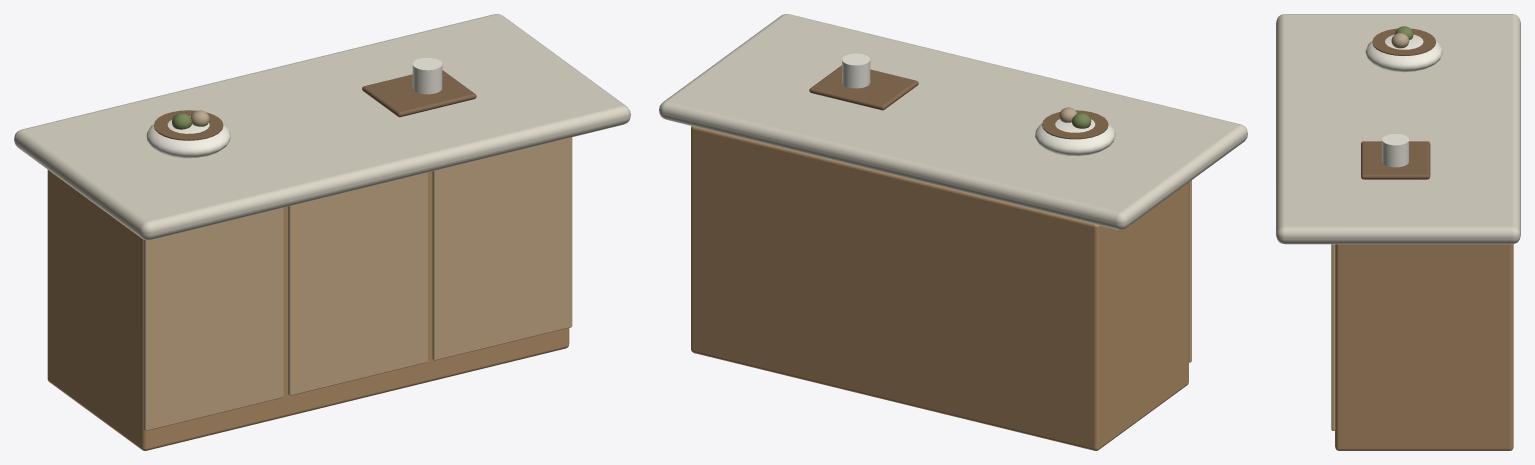
The model's file is island.glb.
3 renders of one model, left to right at view 1: azimuth 30°, elevation 25°; view 2: azimuth 150°, elevation 25°; view 3: azimuth 270°, elevation 25°, orthographic. The views are drawn at different scales.
Parts seen in each view (by area): view 1: studio/oakLight, studio/stone, studio/oak, studio/oakDark, studio/ceramic; view 2: studio/oak, studio/stone, studio/oakDark, studio/ceramic; view 3: studio/stone, studio/oak, studio/oakDark, studio/ceramic, studio/oakLight.
Boxes of the visible parts, x1,y1,x2,y2 form: studio/oakLight: (143, 137, 572, 430); studio/stone: (14, 14, 630, 240); studio/oak: (47, 170, 569, 450); studio/oakDark: (154, 70, 476, 140); studio/ceramic: (146, 57, 442, 158); studio/oak: (691, 126, 1188, 450); studio/stone: (659, 14, 1247, 229); studio/oakDark: (809, 65, 1108, 139); studio/ceramic: (842, 53, 1115, 156); studio/stone: (1276, 14, 1520, 244); studio/oak: (1335, 244, 1513, 450); studio/oakDark: (1361, 28, 1435, 179); studio/ceramic: (1365, 34, 1442, 167); studio/oakLight: (1331, 244, 1335, 430).
Size of the model in its own units: 1.8 by 1.03 by 0.85.
